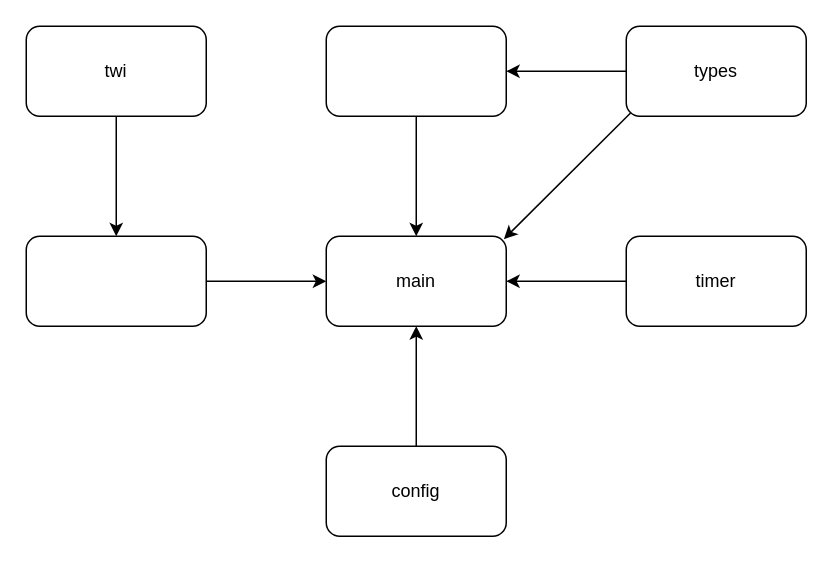
Some shapes in this 833 by 563 pixel diagram are drawn without their labels. The box of each missing label's shape, as (x1, y1, x2, y2) in pixels:
led: (325, 25, 506, 116)
mpu6050: (25, 235, 206, 326)
